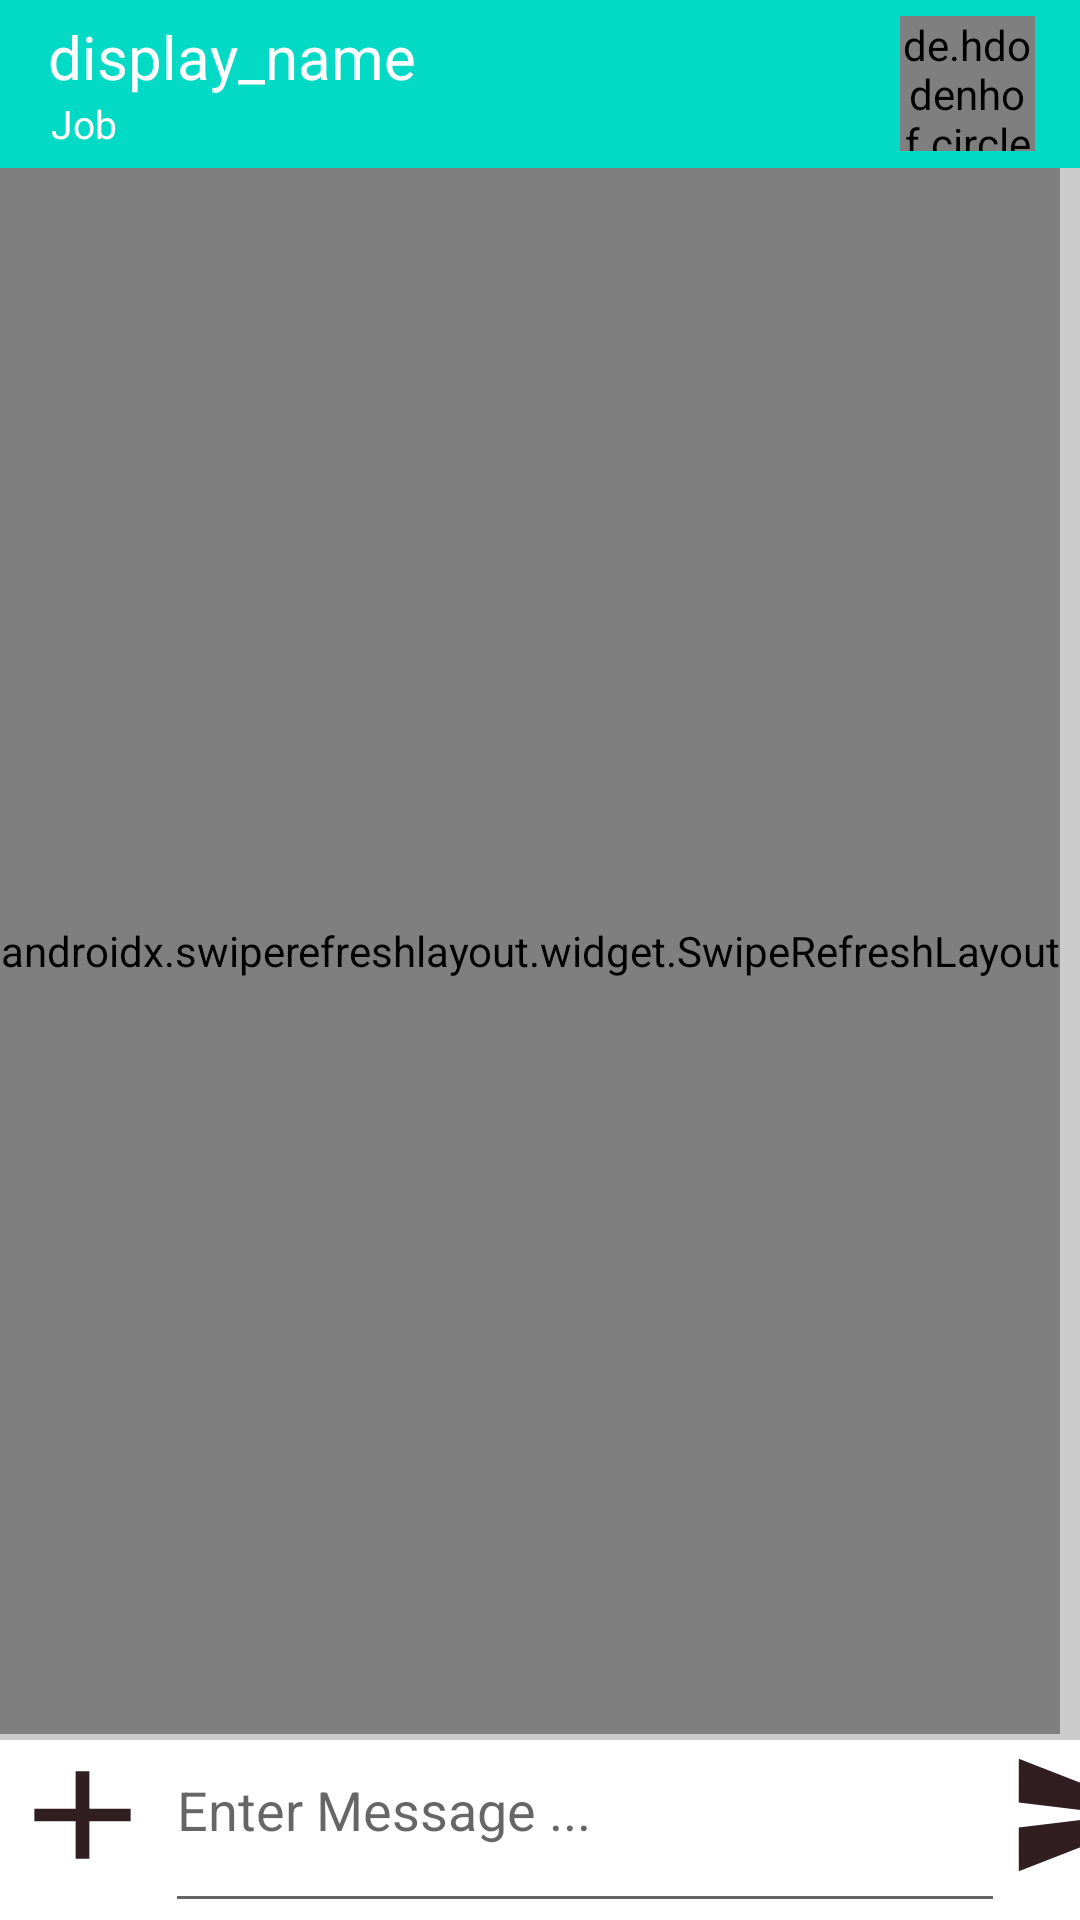

Icon click points for this 1080 × 1920 phone screenshot, format point (x, y):
add: point (82, 1815)
